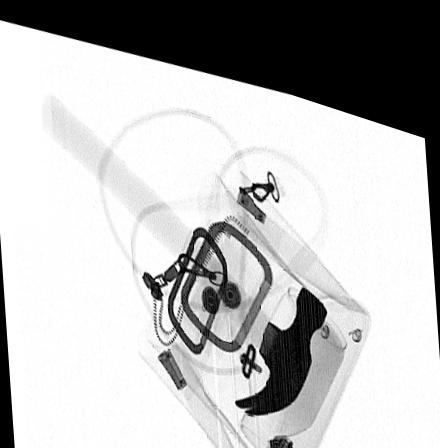Hammer: (41, 87, 329, 401)
